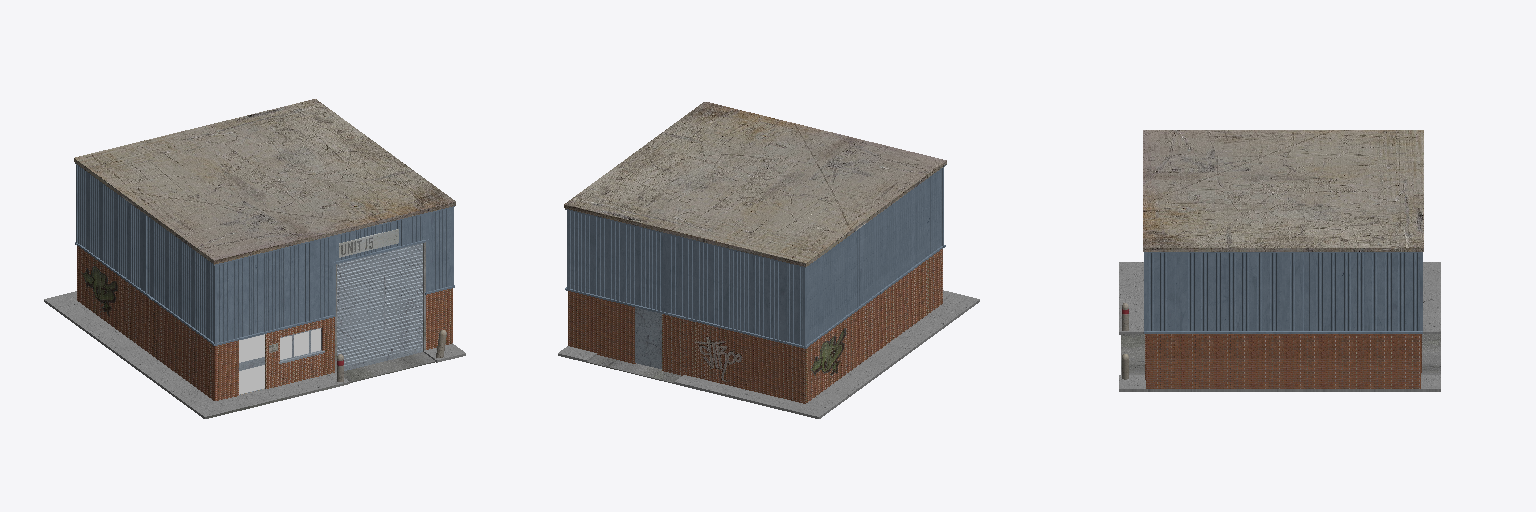
The picture shows the model from 3 angles: view 1: azimuth 30°, elevation 25°; view 2: azimuth 150°, elevation 25°; view 3: azimuth 270°, elevation 25°; orthographic projection.
Visible parts, largest first — view 1: Building, Path, LeftDoor2, LeftDoor3, RightDoor; view 2: Building, Path; view 3: Building, Path.
Boxes of the visible parts, box(x1,y1,x2,y2) form: Building: box(74, 99, 455, 400); Path: box(44, 291, 465, 418); LeftDoor2: box(337, 288, 422, 364); LeftDoor3: box(337, 243, 422, 308); RightDoor: box(239, 334, 264, 394); Building: box(564, 102, 946, 403); Path: box(558, 290, 979, 418); Building: box(1143, 130, 1423, 388); Path: box(1119, 262, 1440, 391).
Bounding box in the file's own units: 4.28 × 2.25 × 4.53.
14 materials, 9 textured.